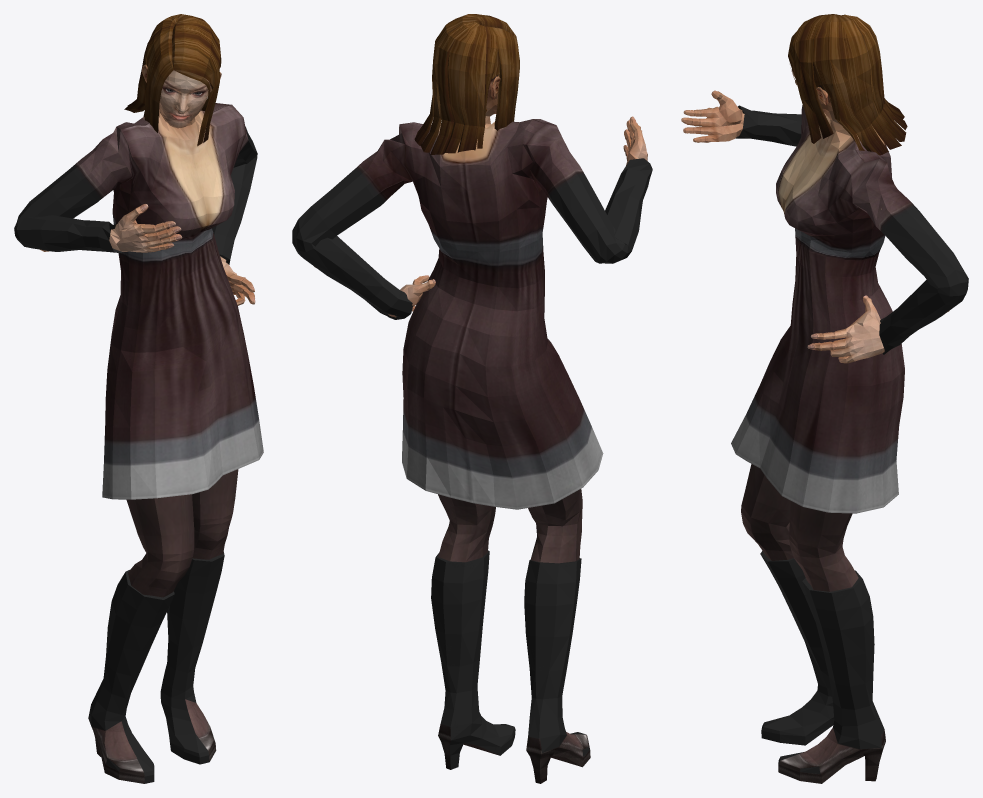
The model's file is sweethome3d-reallusion-holding-female-8.glb.
3 views of the same model, side by side, from view 1: azimuth 30°, elevation 25°; view 2: azimuth 150°, elevation 25°; view 3: azimuth 270°, elevation 25° (orthographic). The views are drawn at different scales.
Parts seen in each view (by area): view 1: objpolySurface1023; view 2: objpolySurface1023; view 3: objpolySurface1023.
Part boxes in pixels (x1,y1,x2,y2): objpolySurface1023: (14,14,263,783); objpolySurface1023: (292,14,652,783); objpolySurface1023: (681,14,968,783).
Size of the model in its own units: 67.65 by 165 by 56.78.
3 materials, 3 textured.
